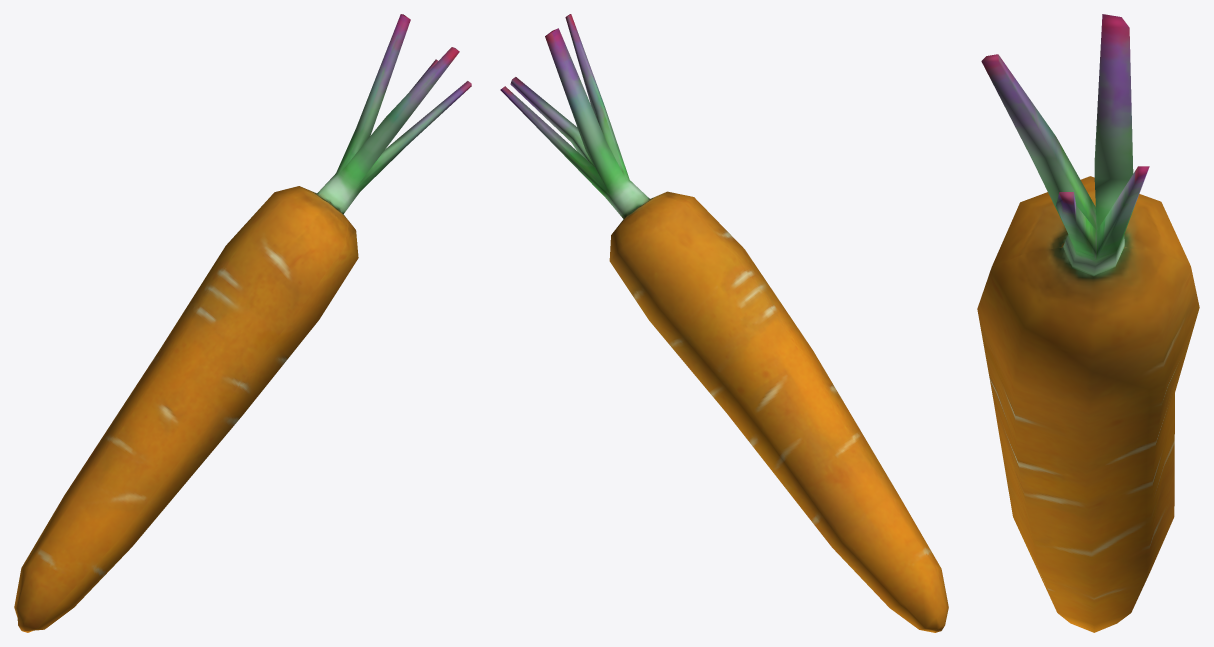
Rendered from carrot.glb.
3 renders of one model, left to right at view 1: azimuth 30°, elevation 25°; view 2: azimuth 150°, elevation 25°; view 3: azimuth 270°, elevation 25°, orthographic. The views are drawn at different scales.
Visible parts, largest first — view 1: Cube; view 2: Cube; view 3: Cube.
Boxes of the visible parts, x1,y1,x2,y2 form: Cube: (14, 14, 471, 632); Cube: (500, 14, 948, 632); Cube: (977, 14, 1199, 632).
Size of the model in its own units: 10.64 by 11.88 by 2.53.
Materials: 1 (1 with a texture image).
